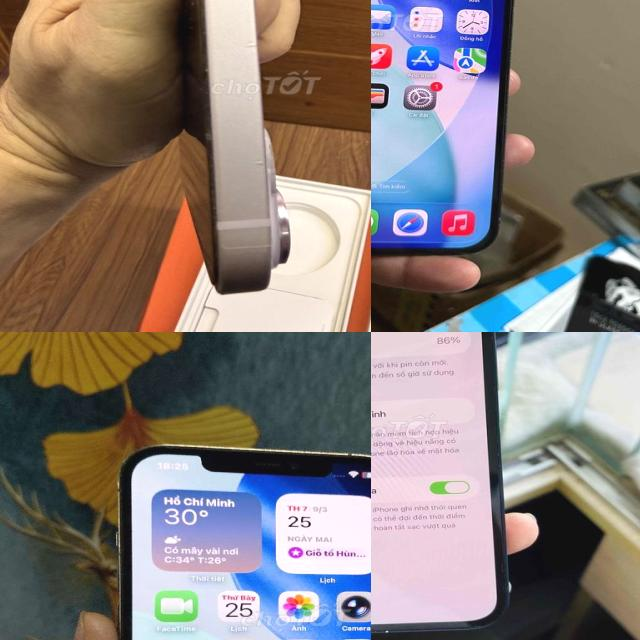gen_12_13: (101, 428, 371, 640), (371, 332, 522, 640), (371, 0, 529, 254)
gen_14: (175, 0, 307, 297)
